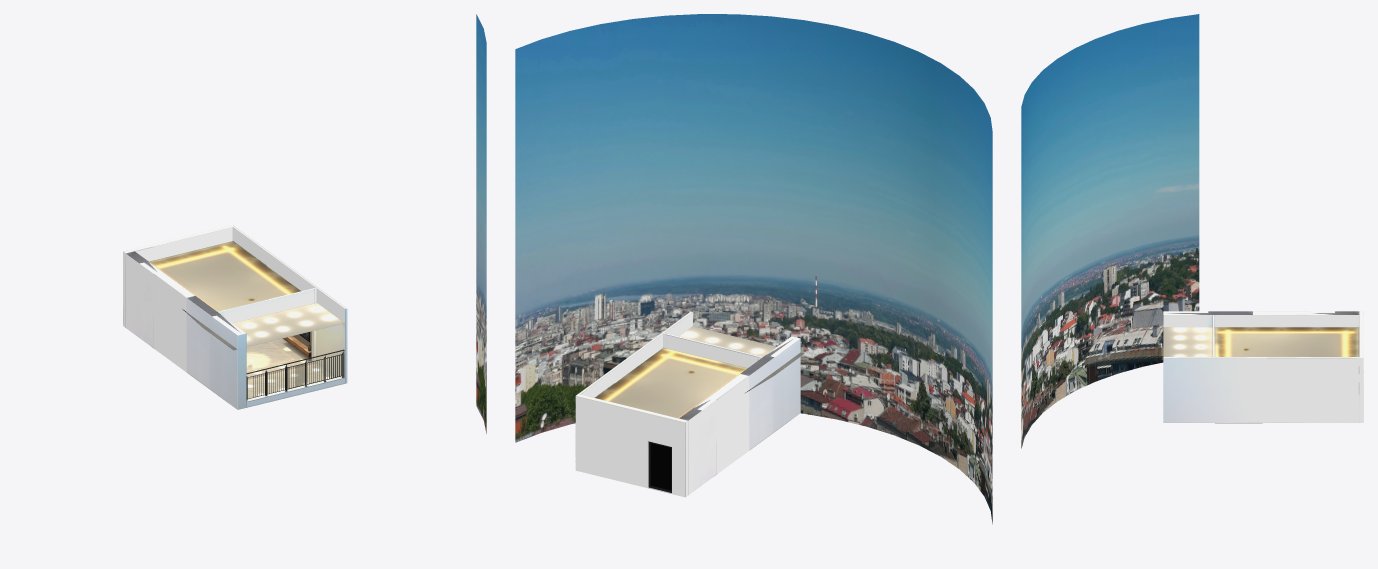
File: room-optimize-small.glb
3 views of the same model, side by side, from view 1: azimuth 30°, elevation 25°; view 2: azimuth 150°, elevation 25°; view 3: azimuth 270°, elevation 25° (orthographic). The views are drawn at different scales.
Visible parts, largest first — view 1: TUONG, SKY, SAN NHA, LAN CAN; view 2: SKY, TUONG, CUA SAU; view 3: SKY, TUONG.
Boxes of the visible parts, <box> form: TUONG: <box>123,225,347,409</box>; SKY: <box>476,14,486,433</box>; SAN NHA: <box>246,338,334,398</box>; LAN CAN: <box>246,349,344,400</box>; SKY: <box>515,14,992,523</box>; TUONG: <box>575,311,804,497</box>; CUA SAU: <box>648,441,671,492</box>; SKY: <box>1021,14,1199,448</box>; TUONG: <box>1163,311,1363,422</box>.
Bounding box in the file's own units: 22.82 × 18.42 × 16.68.
Materials: 27 (16 with a texture image).
